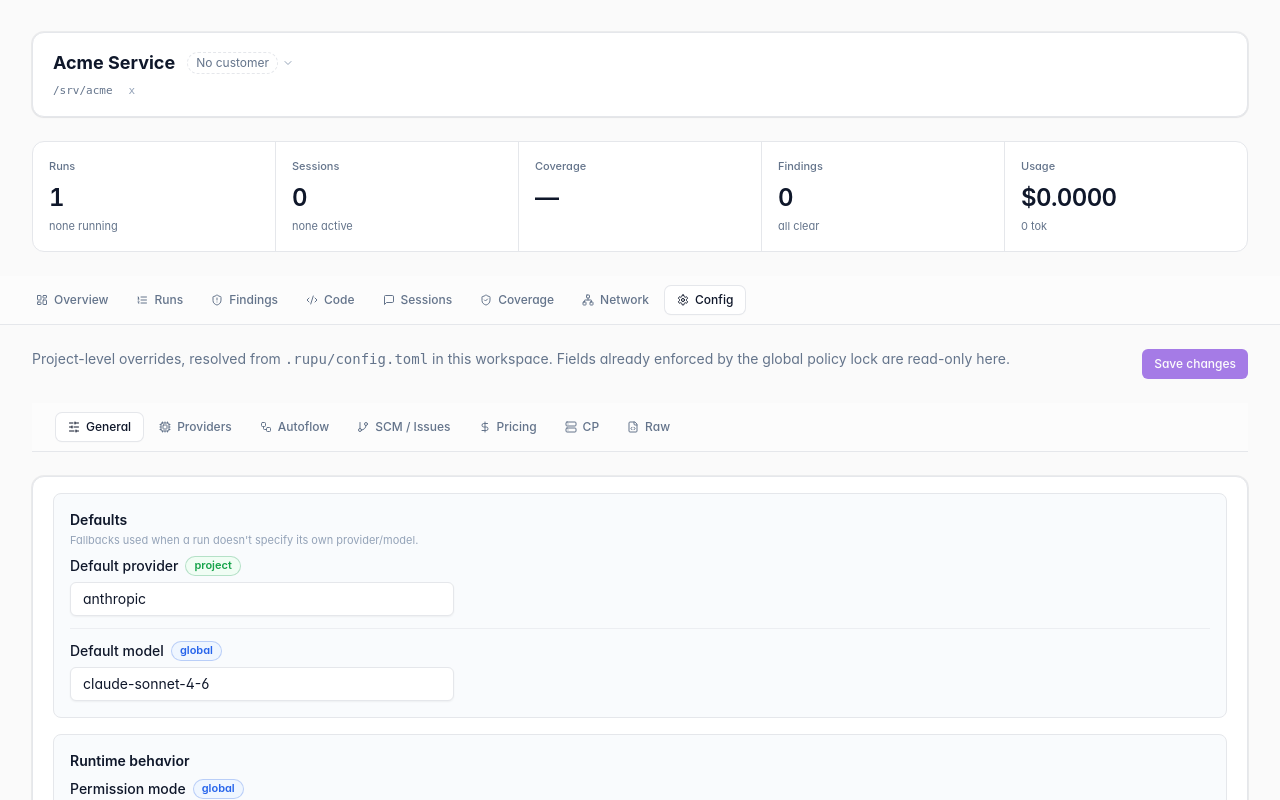
Test case: ProjectDetail Config tab › surfaces a 400 locked-key rejection from putProjectConfig inline
Type "claude-opus-4-6" into the field labelled "Default model". click: (262, 684)
box: x1=70 y1=667 x2=454 y2=701
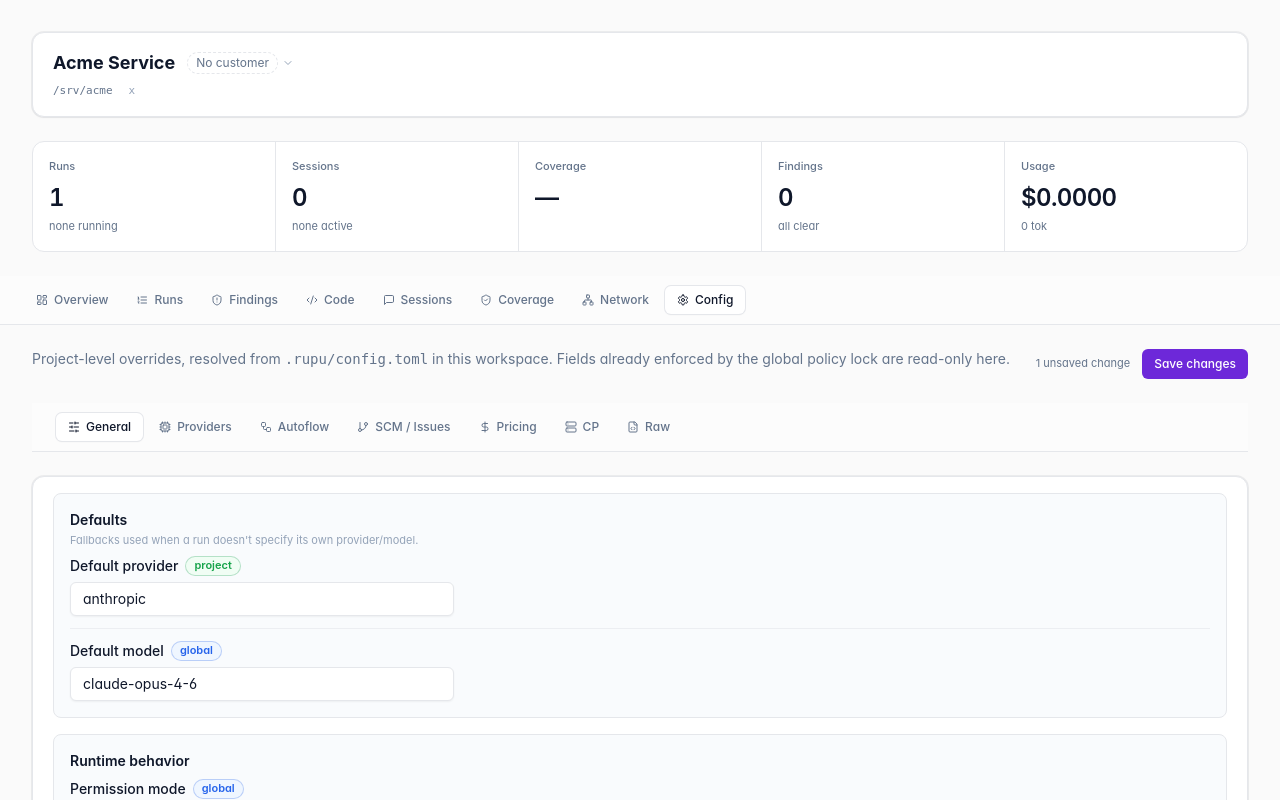
Click the button "Save changes". click: (1195, 364)
box: x1=1142 y1=348 x2=1248 y2=378
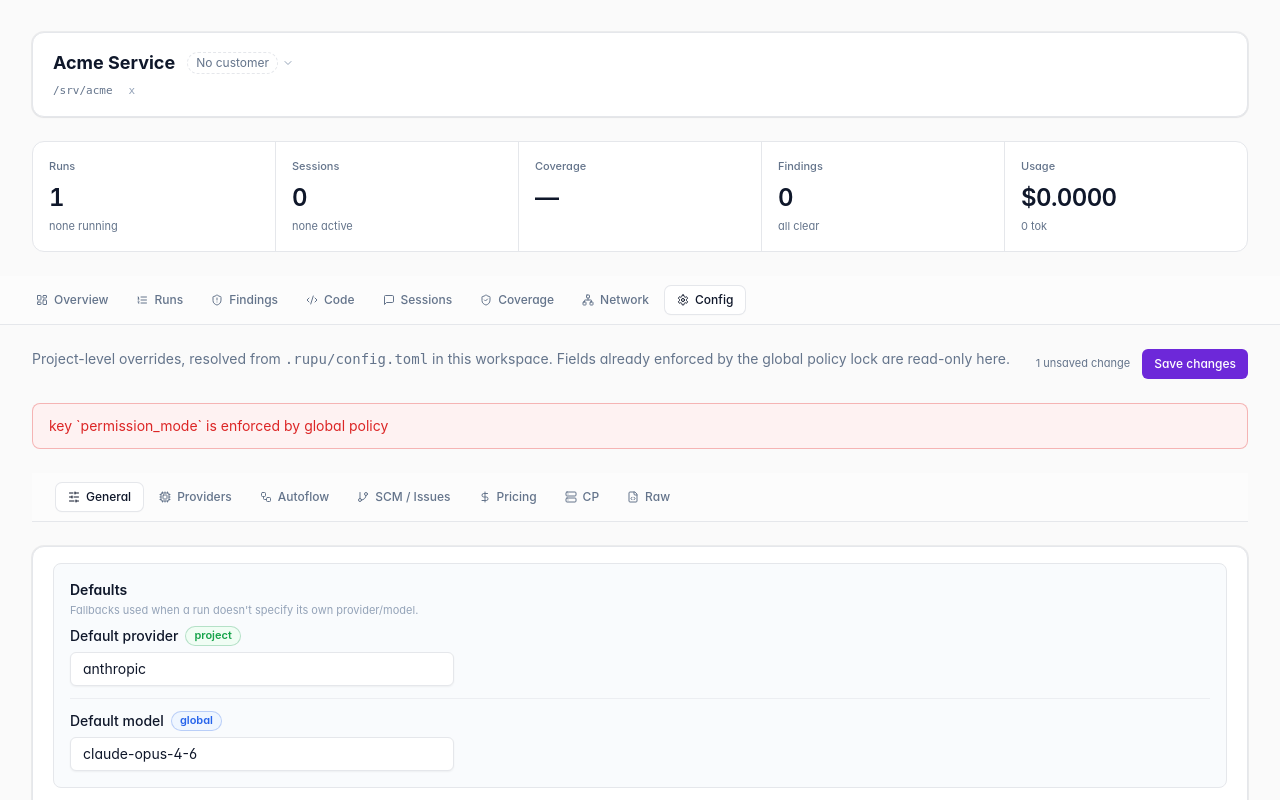
Result: the message shows "enforced by global policy" at x1=49 y1=416 x2=388 y2=434
